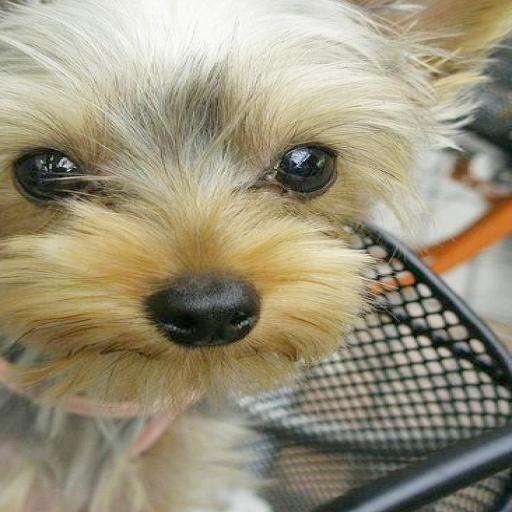dog_face: (0, 1, 450, 390)
